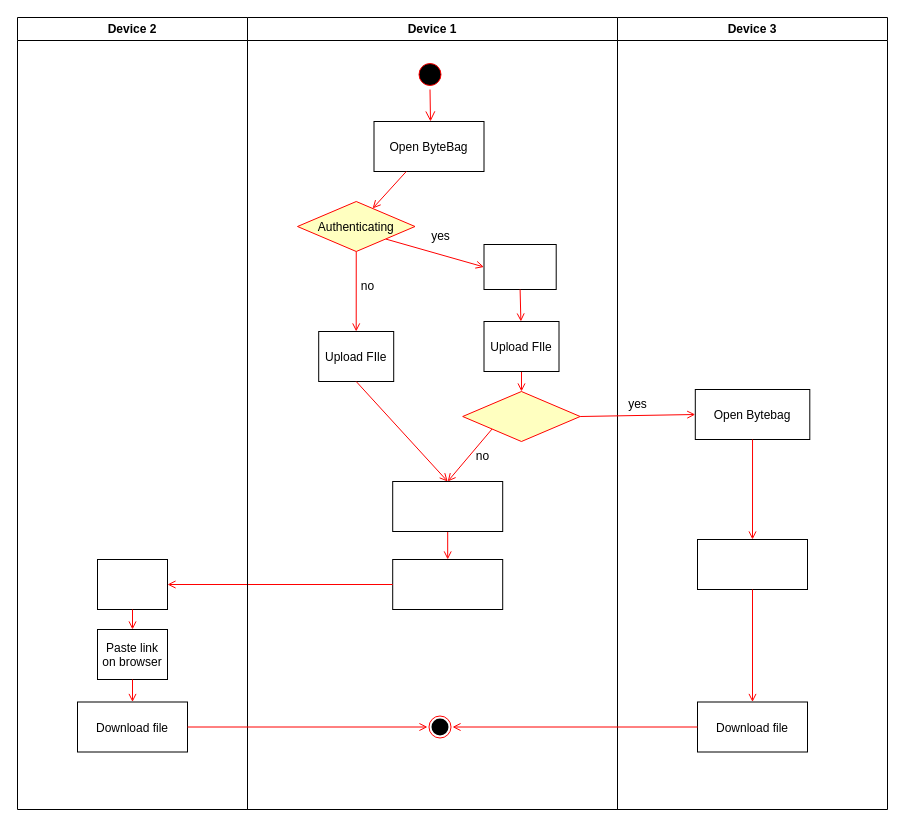
Image size: 905x827. Some labels were removed from this diagram. Here are the shapes that lost their labels. From the top down, the centre of each, then its label:
At point 519,267: "Log in".
At point 521,416: "Sharing to same account".
At point 447,506: "Copy link".
At point 132,584: "Open browser".
At point 447,584: "Share link".
At point 752,564: "check for new available files".
